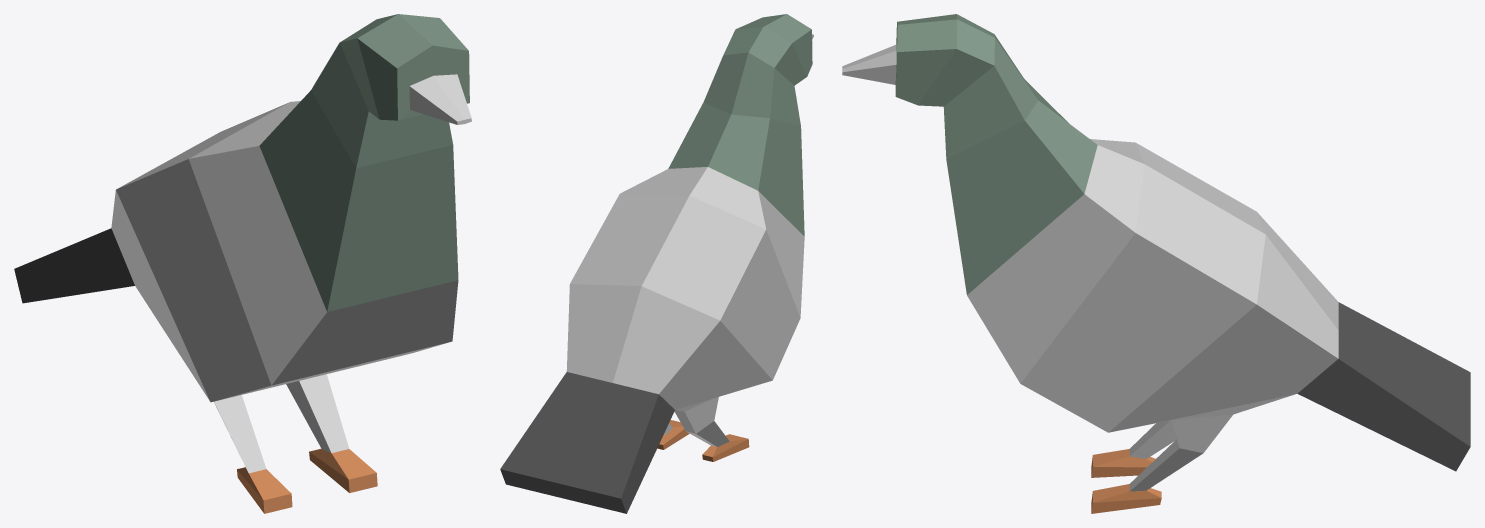
File: Pigeon.fbx
3 renders of one model, left to right at view 1: azimuth 30°, elevation 25°; view 2: azimuth 150°, elevation 25°; view 3: azimuth 270°, elevation 25°, orthographic. The views are drawn at different scales.
Visible parts, largest first — view 1: Pigeon; view 2: Pigeon; view 3: Pigeon.
Part boxes in pixels (<box>): Pigeon: <box>14,14,471,513</box>; Pigeon: <box>500,14,813,513</box>; Pigeon: <box>842,14,1470,513</box>.
Bounding box in the file's own units: 177 × 417 × 505.
